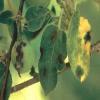Apple Scab Leaf: (37, 22, 67, 99), (66, 7, 93, 87)
